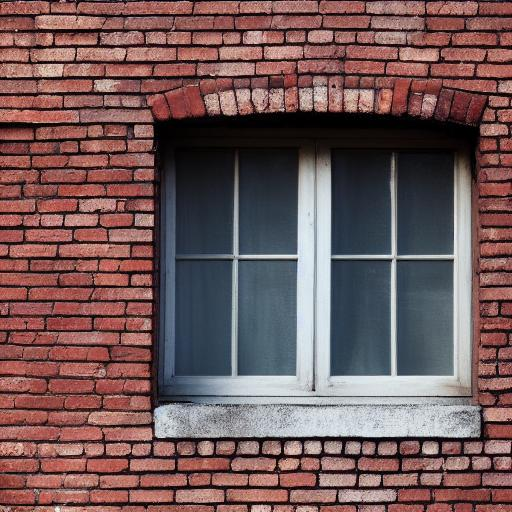Window: (145, 74, 493, 444)
